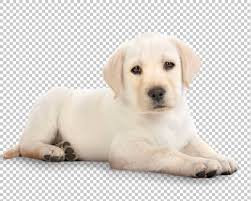dog: (1, 27, 244, 178)
